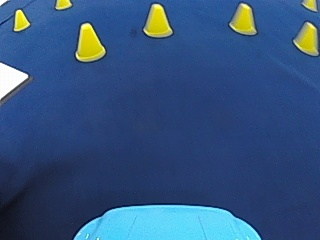cone: (74, 20, 106, 61), (142, 3, 173, 37), (228, 2, 257, 35), (293, 20, 318, 55), (12, 8, 29, 30), (55, 0, 70, 9)
